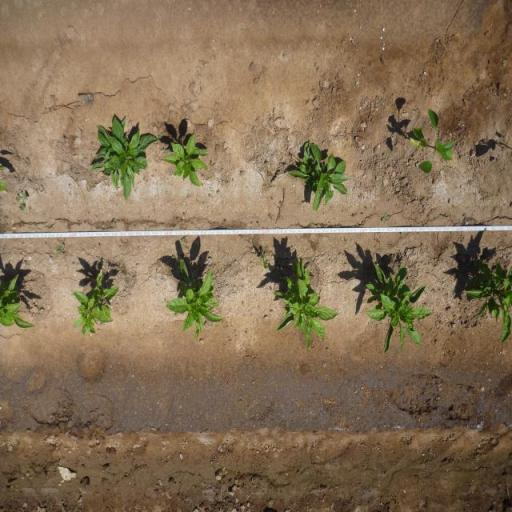plant: (364, 259, 433, 354), (271, 256, 340, 350), (87, 110, 158, 200), (160, 257, 227, 347), (282, 139, 352, 214), (461, 254, 512, 349), (69, 268, 122, 340), (408, 106, 455, 176), (165, 133, 211, 188), (0, 272, 38, 333)
weed: (15, 191, 29, 212), (258, 252, 270, 270), (382, 210, 392, 224), (55, 242, 65, 254), (170, 255, 178, 267), (110, 218, 117, 228), (351, 212, 358, 218), (158, 131, 163, 139), (181, 236, 186, 244), (162, 147, 166, 154)
